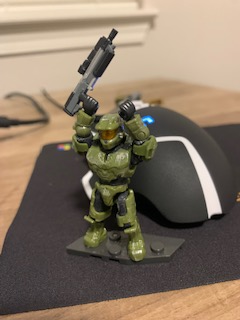chief: (69, 96, 158, 262)
rifle: (61, 27, 120, 117)
spartan: (67, 94, 156, 260)
up: (69, 96, 158, 186)
